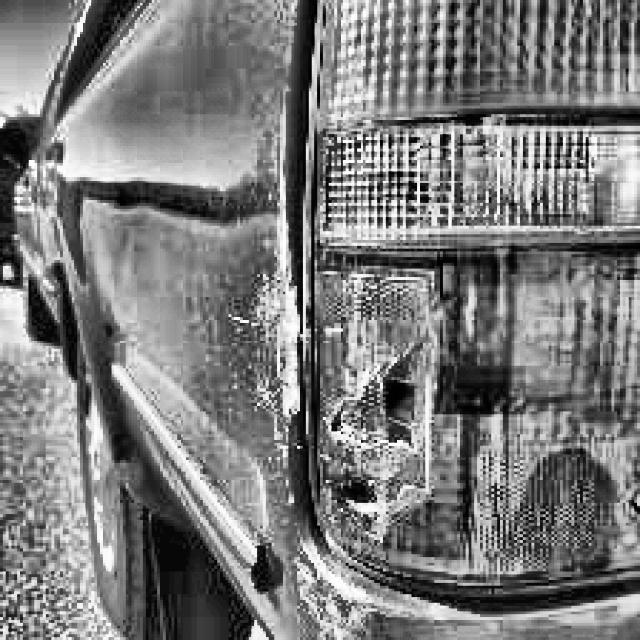tail_lamp: (305, 7, 640, 596)
